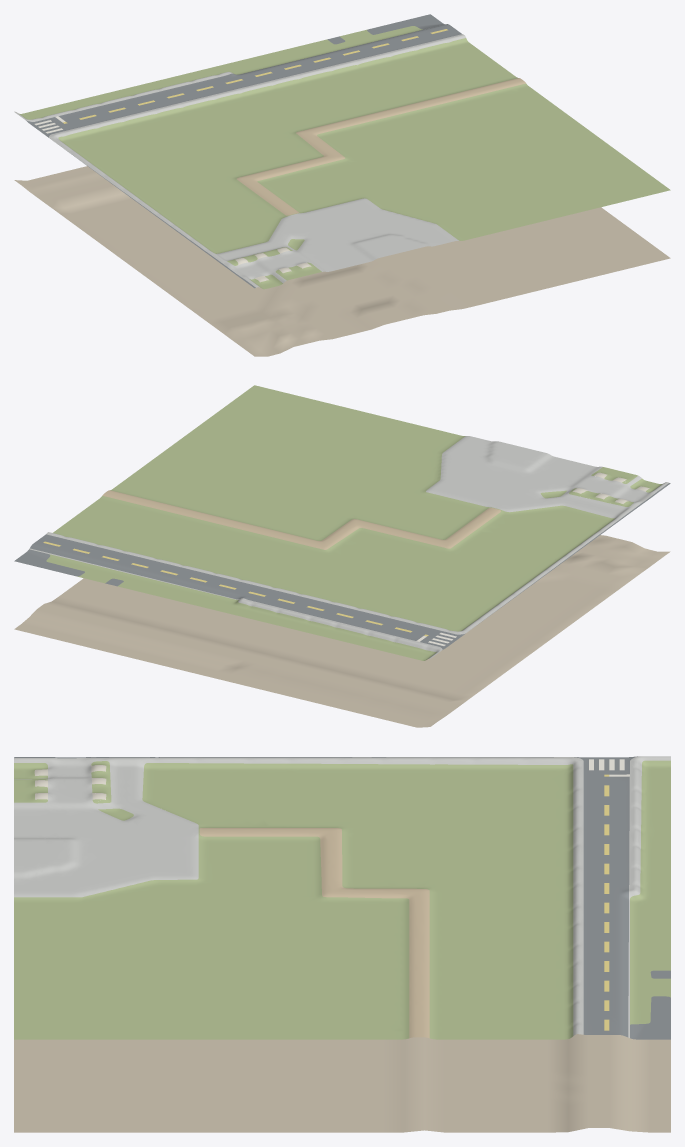
3 views of the same model, one above another, from view 1: azimuth 30°, elevation 25°; view 2: azimuth 150°, elevation 25°; view 3: azimuth 270°, elevation 25° (orthographic). The views are drawn at different scales.
Visible parts, largest first — view 1: s_-7_-1__grass, s_-7_-1__soil, s_-7_-1__stone_paving, s_-7_-1__asphalt, s_-7_-1__timber_deck, s_-7_-1__yellow_marking; view 2: s_-7_-1__grass, s_-7_-1__soil, s_-7_-1__stone_paving, s_-7_-1__asphalt, s_-7_-1__timber_deck, s_-7_-1__yellow_marking; view 3: s_-7_-1__grass, s_-7_-1__soil, s_-7_-1__stone_paving, s_-7_-1__asphalt, s_-7_-1__timber_deck, s_-7_-1__yellow_marking, s_-7_-1__paving.
Part boxes in pixels (box(x1,y1,x2,y2)): s_-7_-1__grass: box(19, 26, 670, 289); s_-7_-1__soil: box(14, 166, 670, 356); s_-7_-1__stone_paving: box(14, 24, 465, 287); s_-7_-1__asphalt: box(26, 14, 461, 288); s_-7_-1__timber_deck: box(236, 78, 525, 215); s_-7_-1__yellow_marking: box(63, 29, 447, 123); s_-7_-1__grass: box(46, 385, 662, 660); s_-7_-1__soil: box(14, 535, 670, 727); s_-7_-1__stone_paving: box(29, 436, 668, 658); s_-7_-1__asphalt: box(14, 483, 670, 649); s_-7_-1__timber_deck: box(102, 490, 500, 549); s_-7_-1__yellow_marking: box(43, 541, 428, 636); s_-7_-1__grass: box(14, 760, 670, 1039); s_-7_-1__soil: box(14, 879, 670, 1132); s_-7_-1__stone_paving: box(14, 756, 670, 1037); s_-7_-1__asphalt: box(14, 756, 670, 1039); s_-7_-1__timber_deck: box(199, 828, 429, 1038); s_-7_-1__yellow_marking: box(604, 774, 609, 1030); s_-7_-1__paving: box(34, 765, 106, 799).
Bounding box in the file's own units: 128 × 21.49 × 128.
